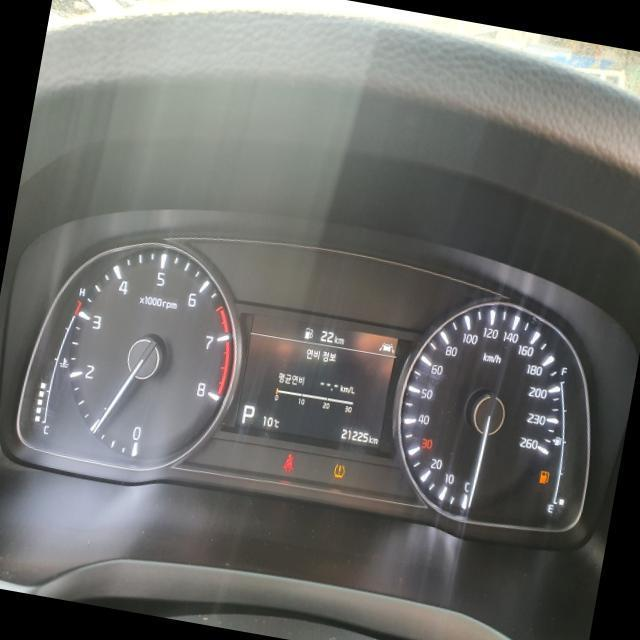LaneCenteringOff: (378, 339, 395, 354)
Low fuel level: (538, 468, 550, 483)
